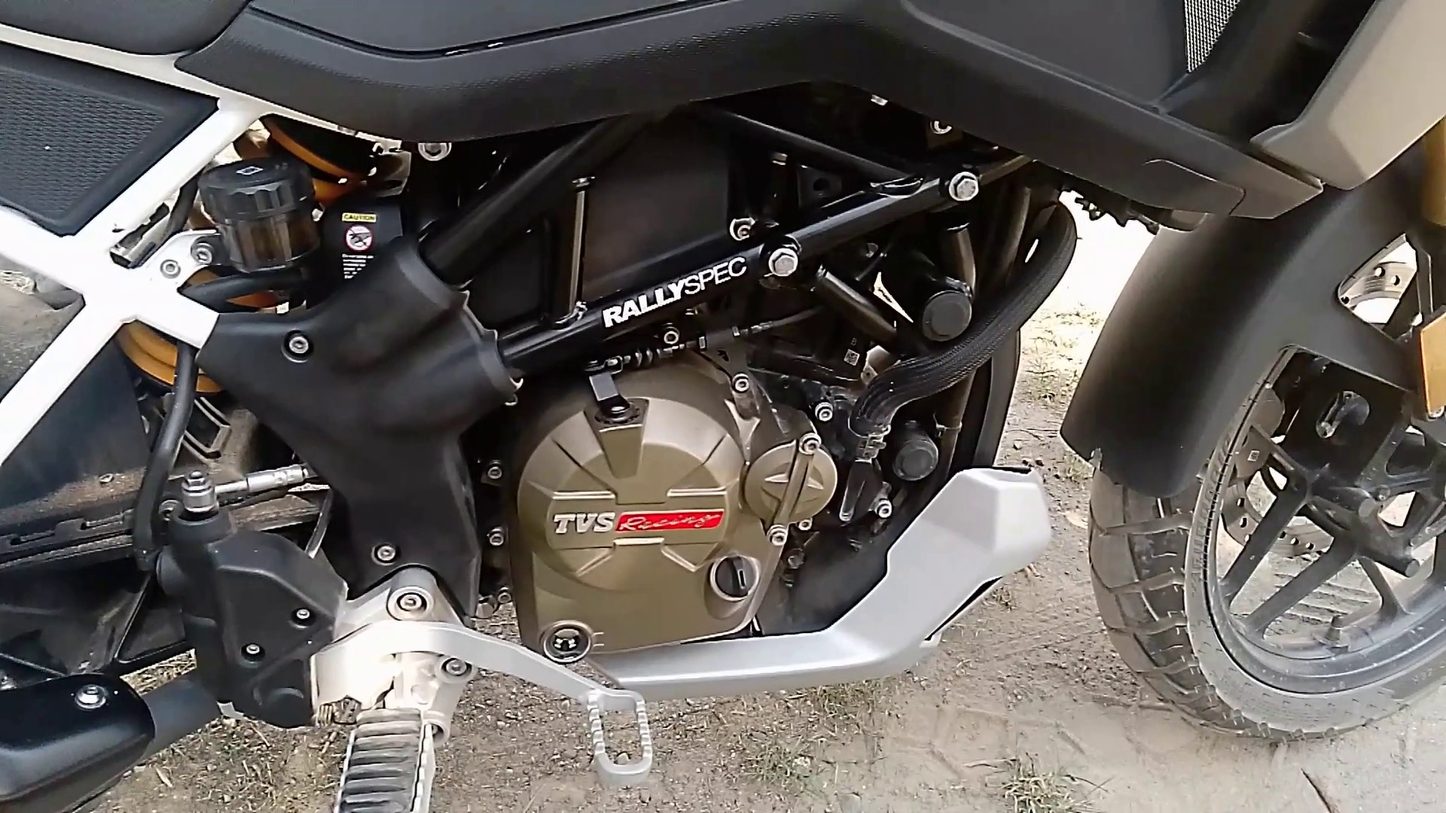engine: (486, 280, 855, 700)
oil_cap: (699, 531, 770, 612)
oil_marker: (538, 595, 614, 674)
